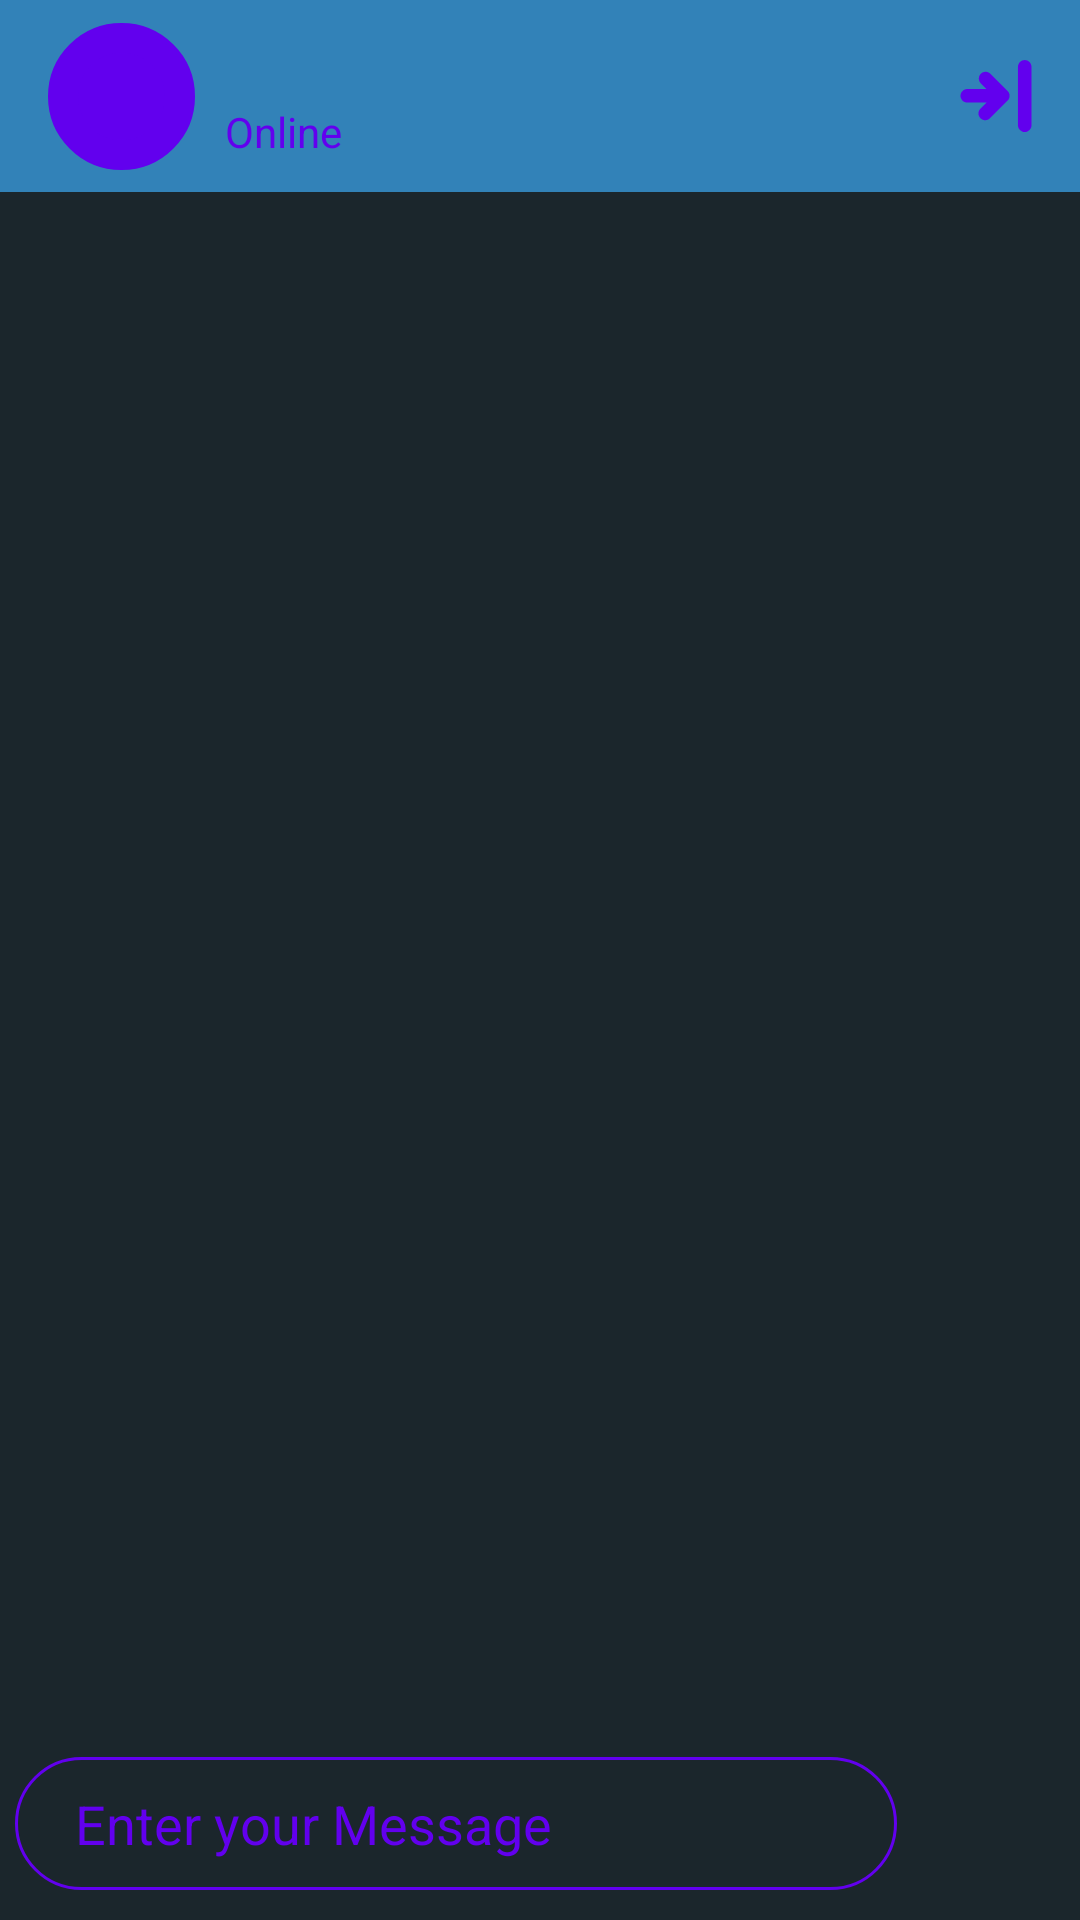

Named icons in this screenshot (1080px x 1920px) and their bounding boxes, detection(x1, y1, x2, y2):
arrow to last track: detection(960, 60, 1032, 132)
